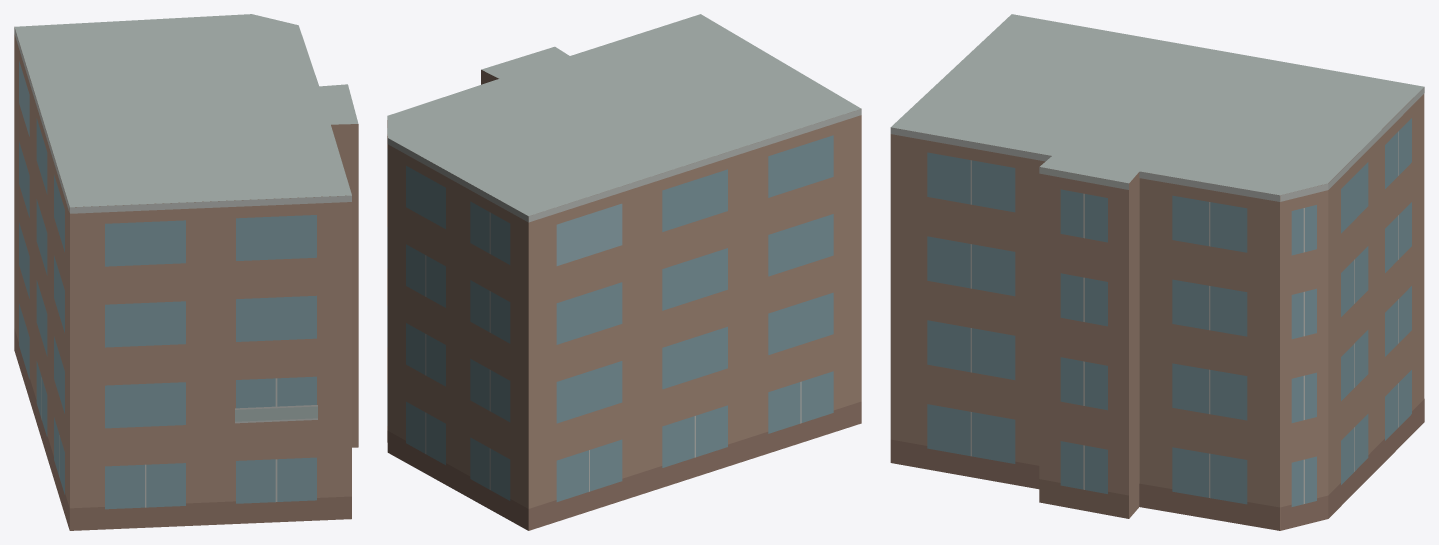
Rendered from survey-upis-32954287.glb.
3 renders of one model, left to right at view 1: azimuth 30°, elevation 25°; view 2: azimuth 150°, elevation 25°; view 3: azimuth 270°, elevation 25°, orthographic. The views are drawn at different scales.
Visible parts, largest first — view 1: survey-upis-32954287.tmp; view 2: survey-upis-32954287.tmp; view 3: survey-upis-32954287.tmp.
Part boxes in pixels (x1,y1,x2,y2): survey-upis-32954287.tmp: (14, 14, 358, 530); survey-upis-32954287.tmp: (387, 14, 861, 530); survey-upis-32954287.tmp: (890, 14, 1424, 530).
Bounding box in the file's own units: 14.15 × 12.2 × 17.6.
